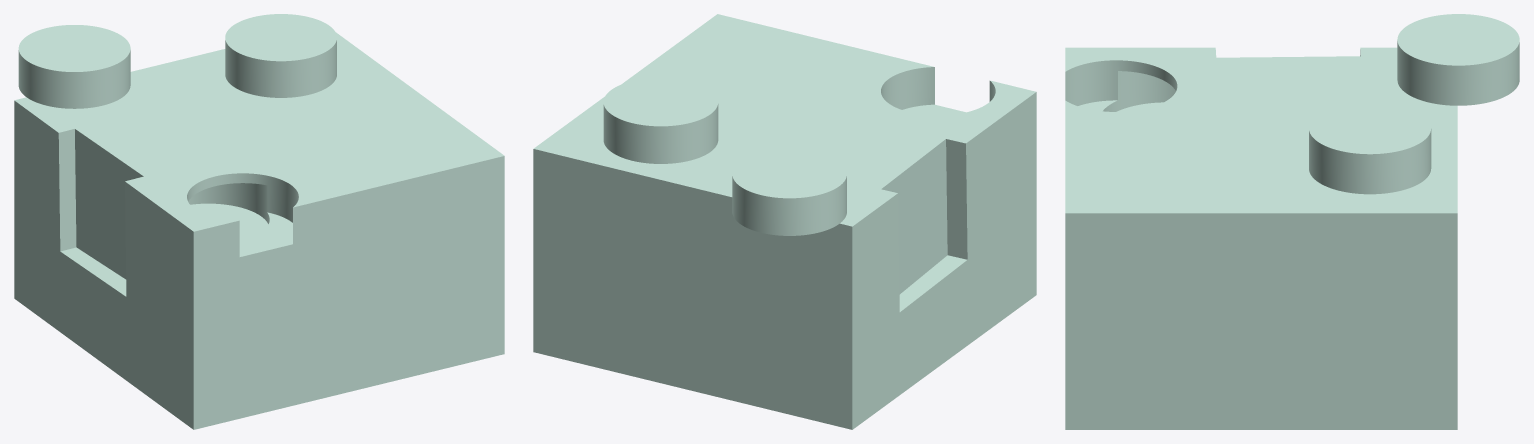
3 renders of one model, left to right at view 1: azimuth 30°, elevation 25°; view 2: azimuth 150°, elevation 25°; view 3: azimuth 270°, elevation 25°, orthographic. The views are drawn at different scales.
Parts seen in each view (by area): view 1: Renderer Node; view 2: Renderer Node; view 3: Renderer Node.
Boxes of the visible parts, box(x1,y1,x2,y2) form: Renderer Node: box(14, 14, 504, 429); Renderer Node: box(533, 14, 1036, 429); Renderer Node: box(1065, 14, 1519, 429).
Bounding box in the file's own units: 1.04 × 0.75 × 1.2.
